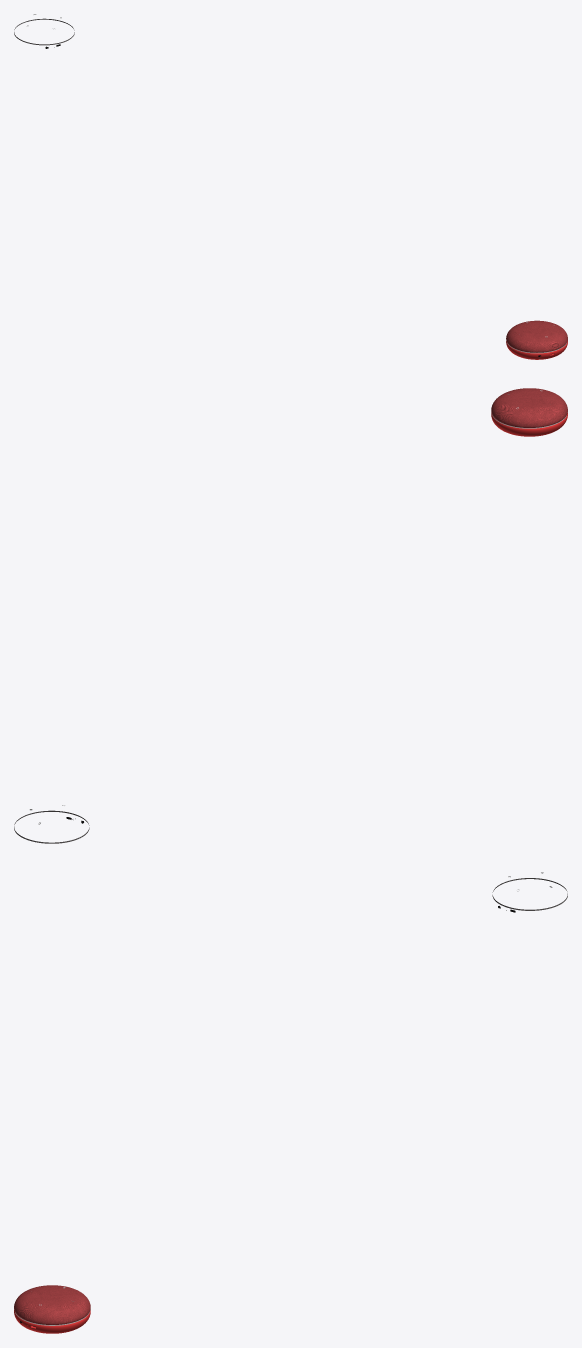
The model's file is me_blender_1.gltf.
The picture shows the model from 3 angles, top to bottom: view 1: azimuth 30°, elevation 25°; view 2: azimuth 150°, elevation 25°; view 3: azimuth 330°, elevation 25°; orthographic projection. The views are drawn at different scales.
Parts seen in each view (by area): view 1: up.001; view 2: up.001, bottom.001; view 3: up.001, bottom.001.
Part boxes in pixels (<box>): up.001: <box>506,320,567,352</box>; up.001: <box>491,388,567,427</box>; bottom.001: <box>491,413,567,436</box>; up.001: <box>14,1285,90,1324</box>; bottom.001: <box>14,1310,90,1333</box>.
Bounding box in the file's own units: 0.2294 × 0.0464 × 1.74.
10 materials, 1 textured.
